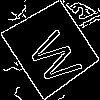W: (26, 23, 92, 89)
